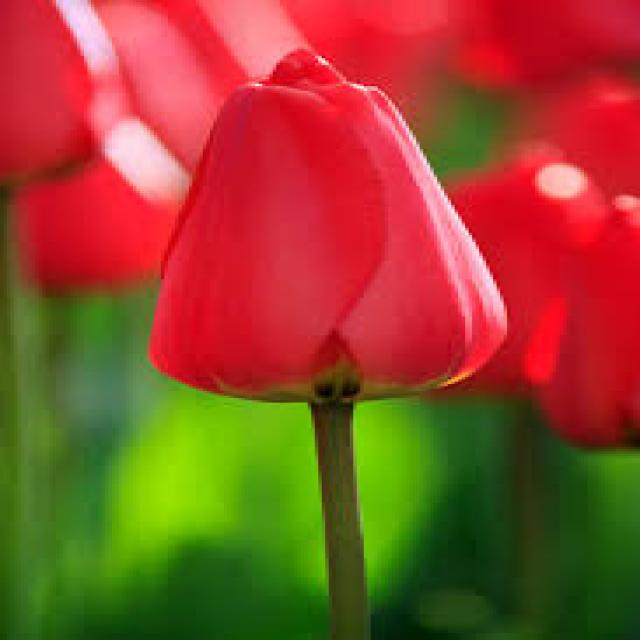tulip: (130, 35, 532, 439)
